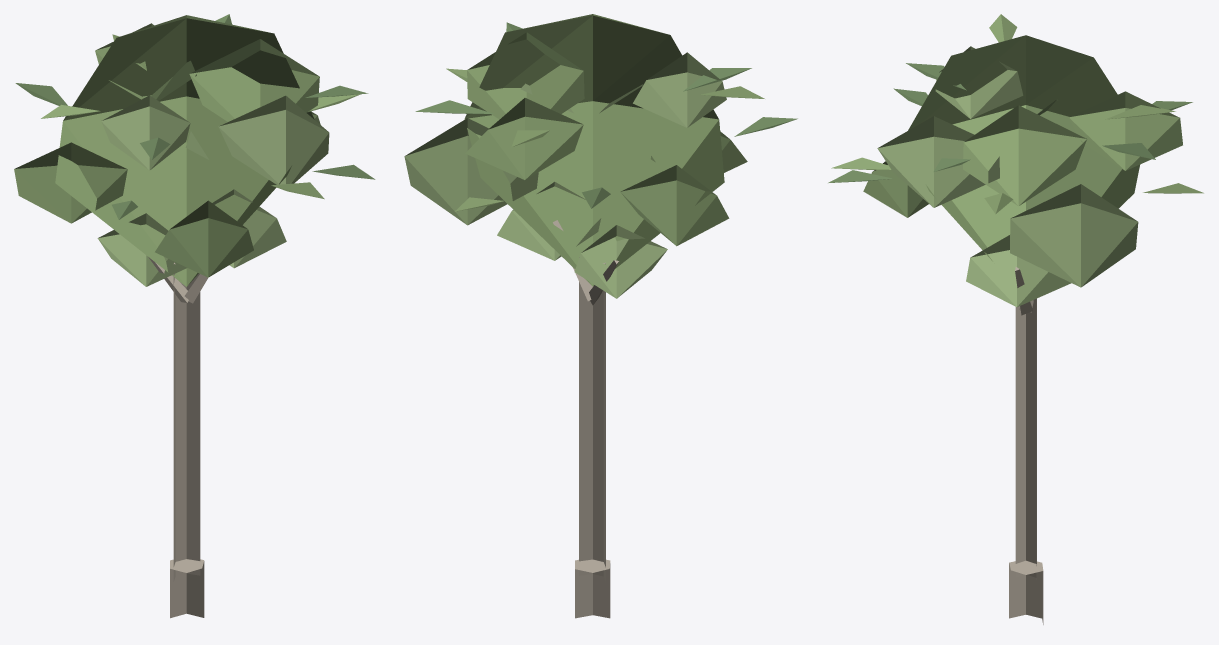
File: shu.baigan__summer.glb
3 renders of one model, left to right at view 1: azimuth 30°, elevation 25°; view 2: azimuth 150°, elevation 25°; view 3: azimuth 270°, elevation 25°, orthographic. The views are drawn at different scales.
Parts seen in each view (by area): view 1: shu.baigan__summer; view 2: shu.baigan__summer; view 3: shu.baigan__summer.
Part boxes in pixels (x1,y1,x2,y2): shu.baigan__summer: [14, 14, 375, 618]; shu.baigan__summer: [404, 14, 797, 618]; shu.baigan__summer: [828, 14, 1203, 624].
Bounding box in the file's own units: 8.39 × 15.12 × 8.8.
